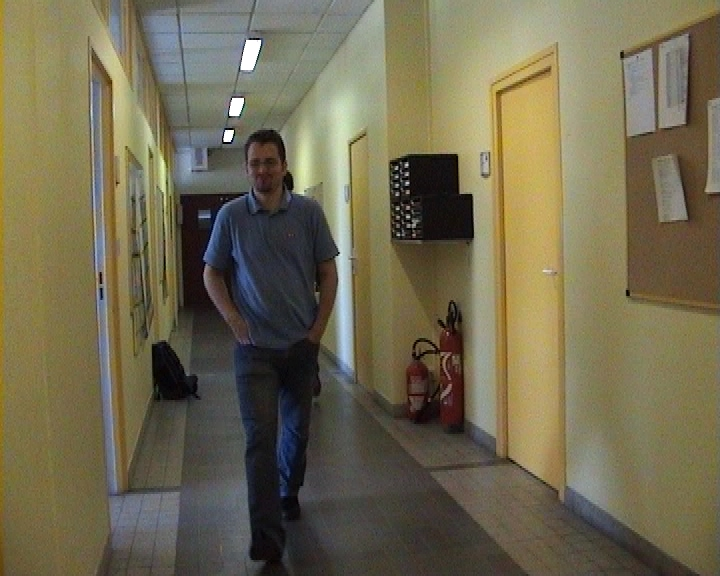leave bag unattended: (139, 334, 357, 483)
